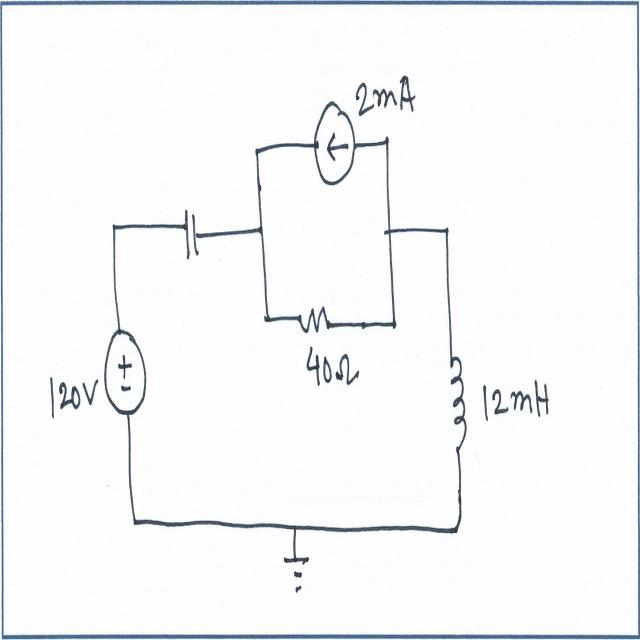capacitor: (181, 200, 200, 264)
current_source: (314, 91, 357, 187)
ground: (282, 544, 316, 604)
inductor: (446, 343, 472, 462)
resistor: (299, 298, 333, 337)
voltage_source: (102, 325, 150, 418)
